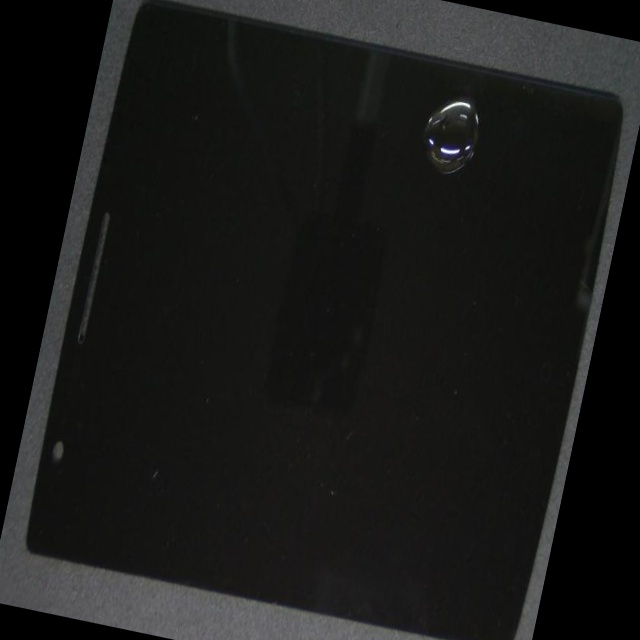oil: (282, 6, 636, 199)
